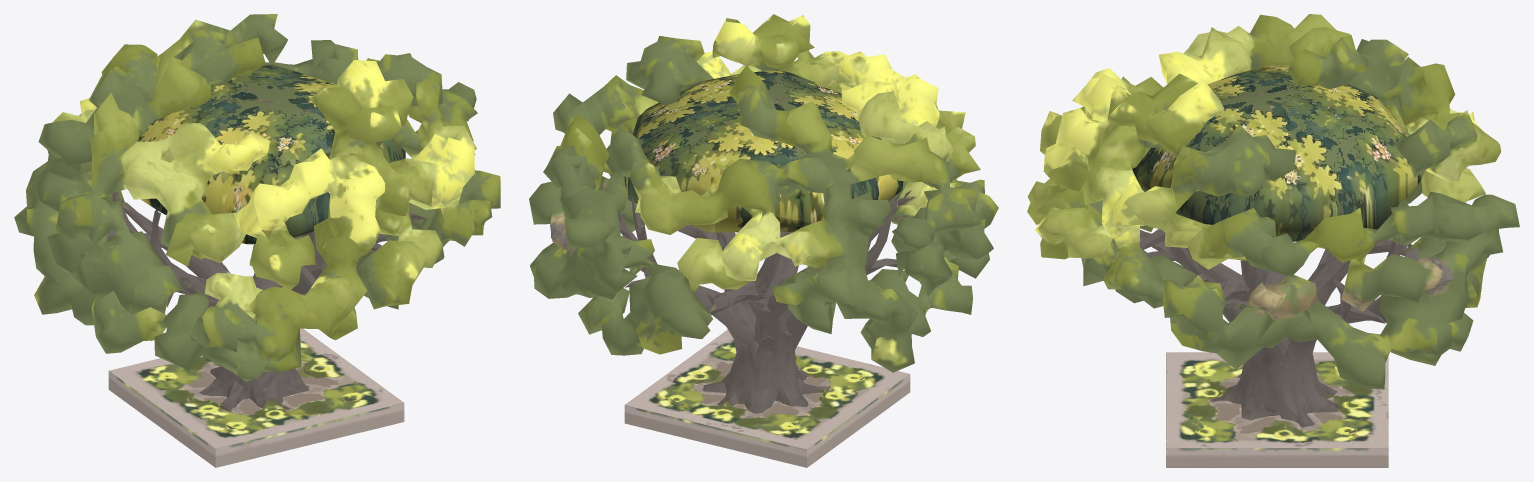
Rendered from tree_banyan.glb.
The picture shows the model from 3 angles, left to right: view 1: azimuth 30°, elevation 25°; view 2: azimuth 150°, elevation 25°; view 3: azimuth 270°, elevation 25°; orthographic projection. The views are drawn at different scales.
Visible parts, largest first — view 1: body, canopy; view 2: body, canopy; view 3: body, canopy.
Boxes of the visible parts, x1,y1,x2,y2 form: body: (14,14,500,467); canopy: (138,64,405,244); body: (529,14,998,467); canopy: (624,70,903,232); body: (1027,14,1519,467); canopy: (1132,66,1421,241).
Bounding box in the file's own units: 11.91 × 9.43 × 11.28.
2 materials, 2 textured.
